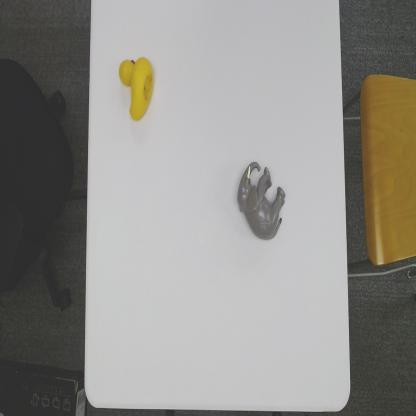Duck: (118, 54, 156, 124)
Elephant: (236, 158, 286, 243)
